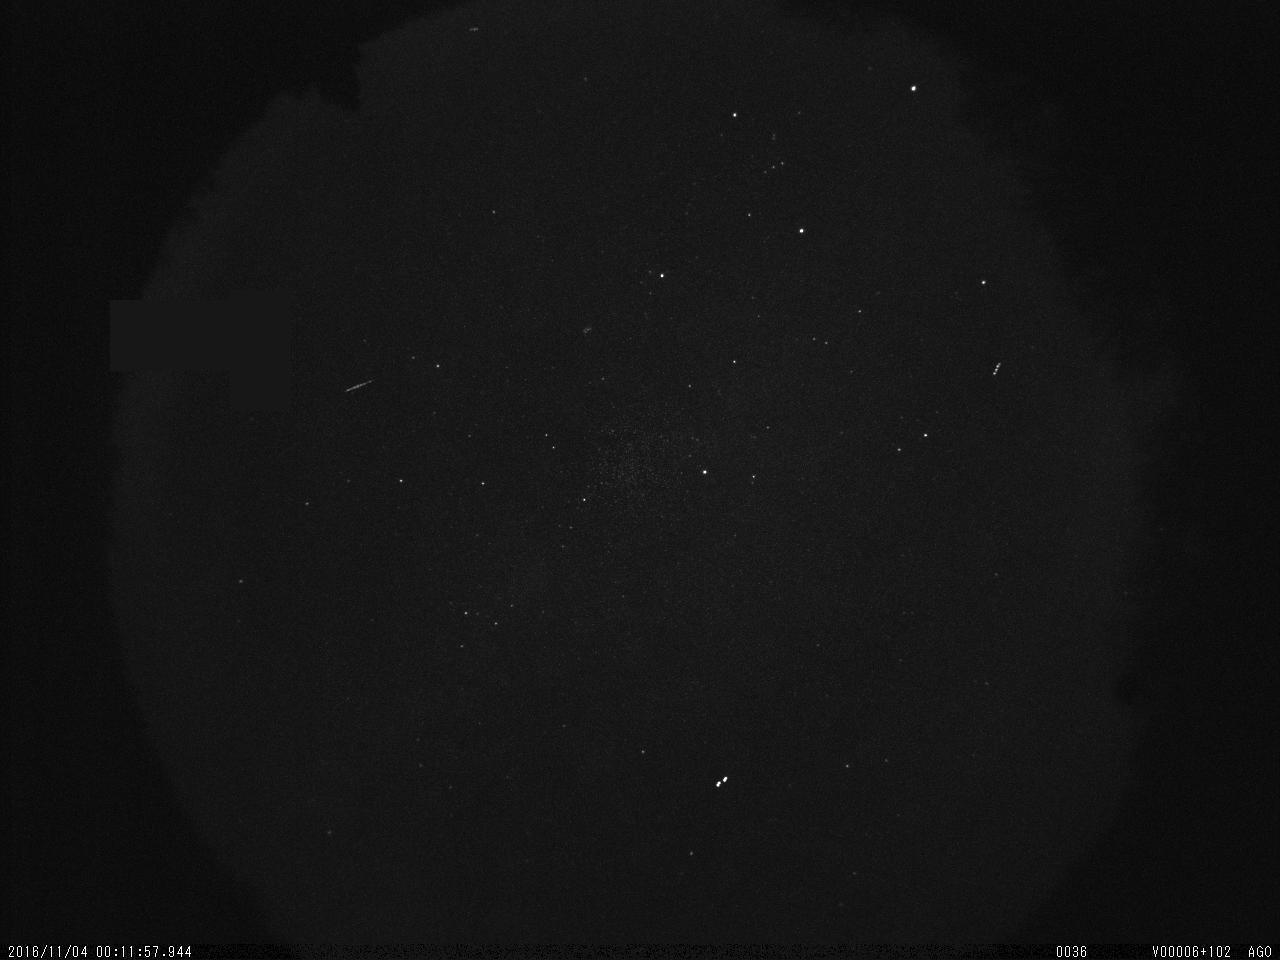Meteor: (343, 376, 375, 393)
